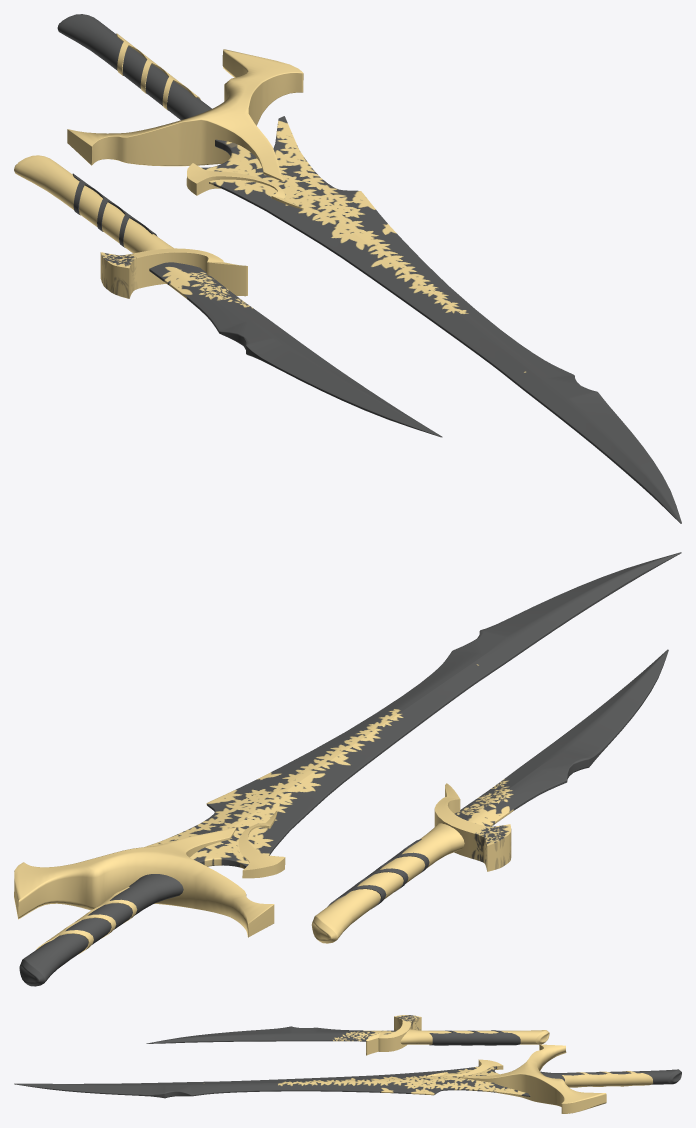
The model's file is sword_and_dagger.glb.
3 renders of one model, top to bottom at view 1: azimuth 30°, elevation 25°; view 2: azimuth 150°, elevation 25°; view 3: azimuth 270°, elevation 25°, orthographic. The views are drawn at different scales.
Parts seen in each view (by area): view 1: R3D_Sword, R3D_Dagger; view 2: R3D_Sword, R3D_Dagger; view 3: R3D_Sword, R3D_Dagger.
Part boxes in pixels (x1=…): R3D_Sword: x1=57, y1=14, x2=681, y2=523; R3D_Dagger: x1=14, y1=155, x2=442, y2=437; R3D_Sword: x1=14, y1=552, x2=681, y2=986; R3D_Dagger: x1=311, y1=649, x2=668, y2=943; R3D_Sword: x1=14, y1=1044, x2=681, y2=1113; R3D_Dagger: x1=146, y1=1015, x2=549, y2=1055.
Bounding box in the file's own units: 0.3877 × 0.0538 × 1.25.
2 materials, 2 textured.
